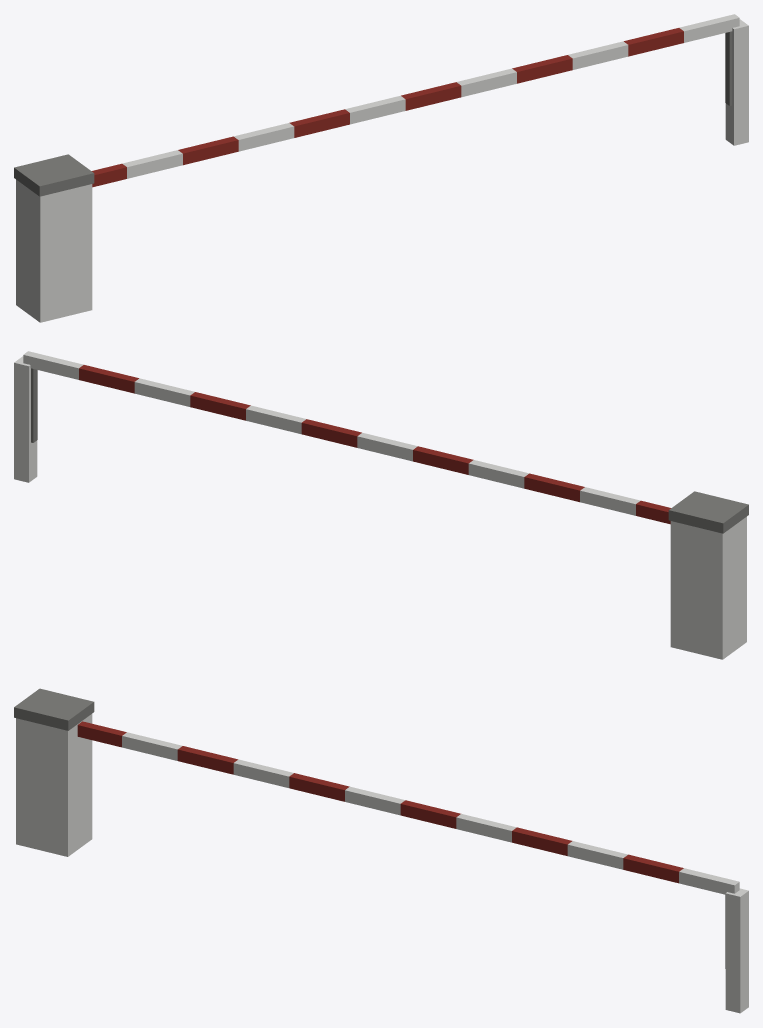
The model's file is grammy_gatebar.glb.
The picture shows the model from 3 angles, top to bottom: view 1: azimuth 30°, elevation 25°; view 2: azimuth 150°, elevation 25°; view 3: azimuth 330°, elevation 25°; orthographic projection.
Parts seen in each view (by area): view 1: post.018, pole.029, pole.028, post.008; view 2: post.018, pole.029, pole.028, post.008; view 3: post.018, pole.029, pole.028, post.008.
Boxes of the visible parts, x1=… form: post.018: x1=16, y1=19, x2=748, y2=322; pole.029: x1=122, y1=14, x2=739, y2=178; pole.028: x1=92, y1=28, x2=683, y2=187; post.008: x1=14, y1=154, x2=94, y2=196; post.018: x1=14, y1=356, x2=746, y2=659; pole.029: x1=23, y1=351, x2=640, y2=515; pole.028: x1=79, y1=365, x2=670, y2=524; post.008: x1=668, y1=491, x2=748, y2=533; post.018: x1=16, y1=714, x2=748, y2=1013; pole.029: x1=122, y1=732, x2=739, y2=894; pole.028: x1=77, y1=721, x2=683, y2=883; post.008: x1=14, y1=688, x2=94, y2=730.
Bounding box in the file's own units: 5.8 × 1.06 × 0.36.
